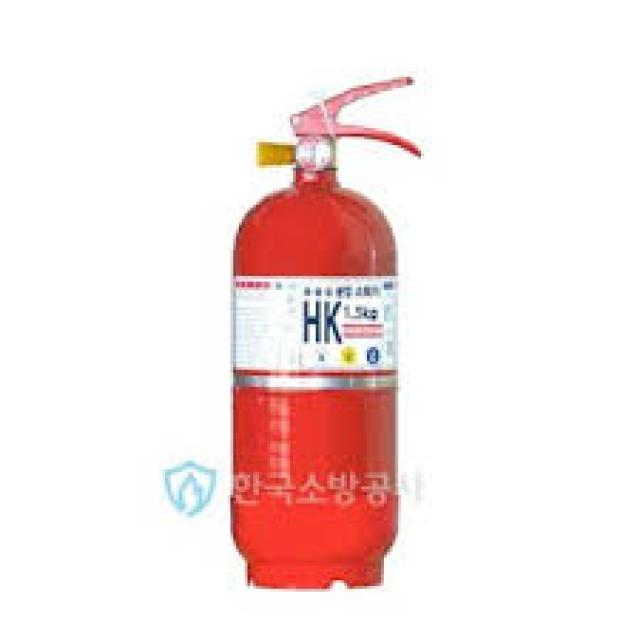pressure gauge: (296, 137, 330, 168)
